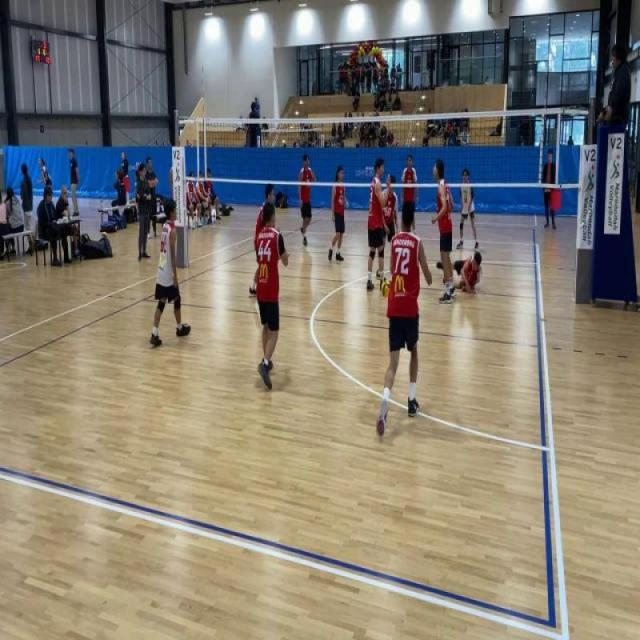volleyball: (380, 278, 391, 298), (100, 231, 108, 238)
